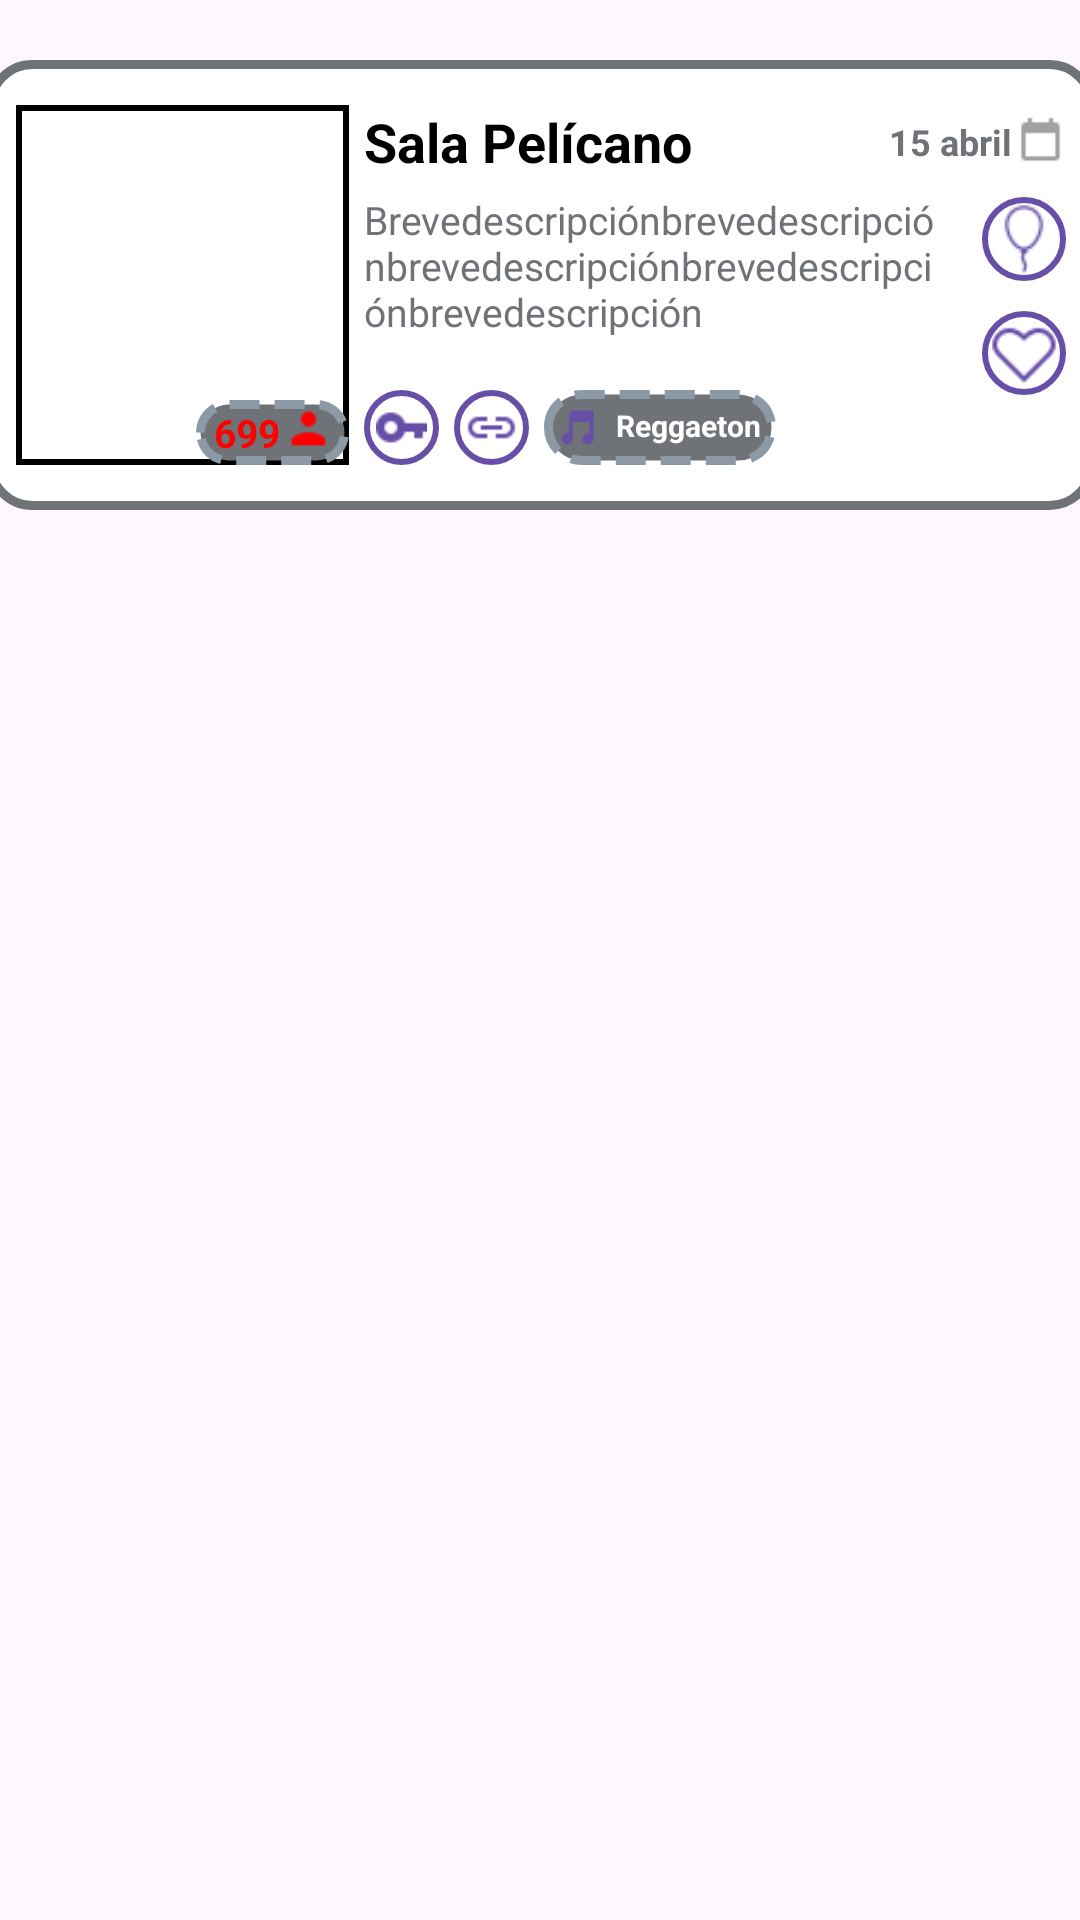

Icon click points for this 1080 x 1920 phone screenshot, format (x,y):
balloon: (1024,239)
date: (1040,139)
key: (401,427)
like: (1024,353)
link: (491,427)
music: (577,427)
user: (308,428)
